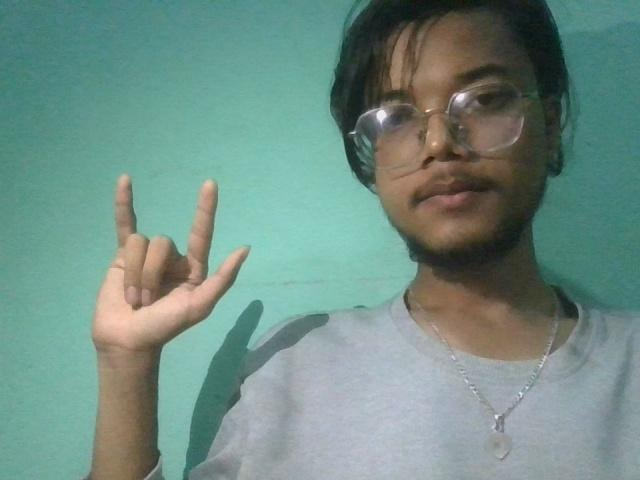I Love You: (69, 164, 266, 376)
